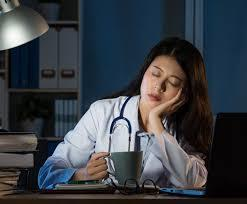sleep: (109, 37, 207, 157)
